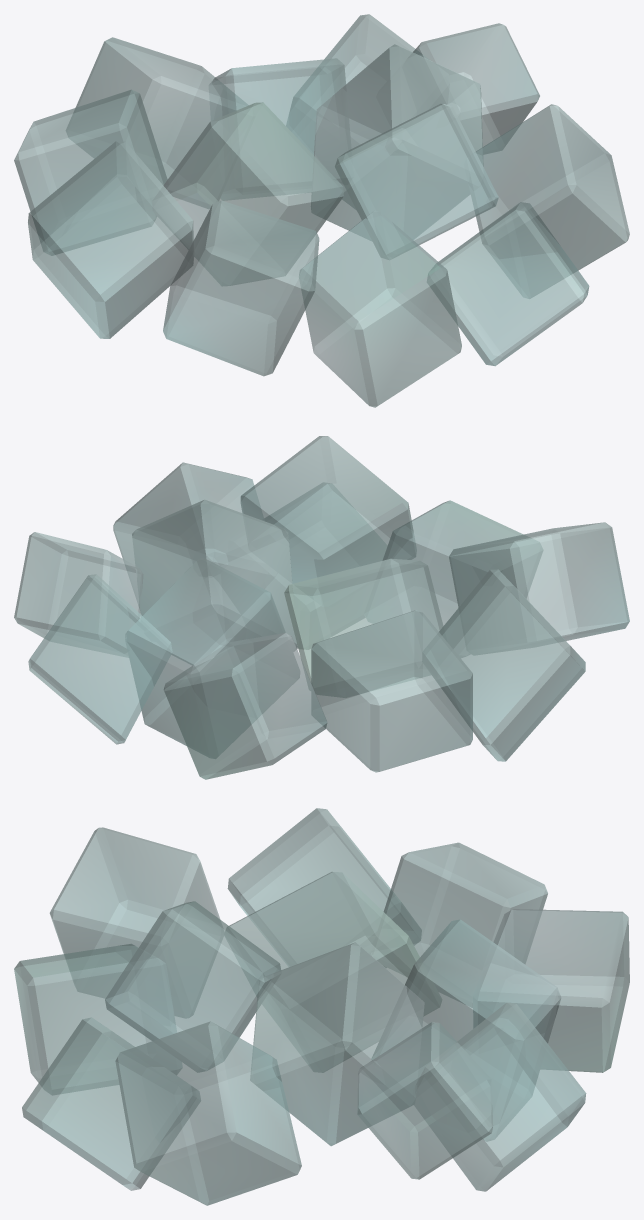
Rendered from ice_cube_topping.fbx.
3 views of the same model, one above another, from view 1: azimuth 30°, elevation 25°; view 2: azimuth 150°, elevation 25°; view 3: azimuth 270°, elevation 25° (orthographic). The views are drawn at different scales.
Visible parts, largest first — view 1: Ice_Cube_Topping; view 2: Ice_Cube_Topping; view 3: Ice_Cube_Topping.
Part boxes in pixels (bbox=[...]): Ice_Cube_Topping: bbox=[14, 14, 629, 407]; Ice_Cube_Topping: bbox=[14, 436, 629, 779]; Ice_Cube_Topping: bbox=[14, 808, 629, 1205].
Bounding box in the file's own units: 10.62 × 4.72 × 10.09.
